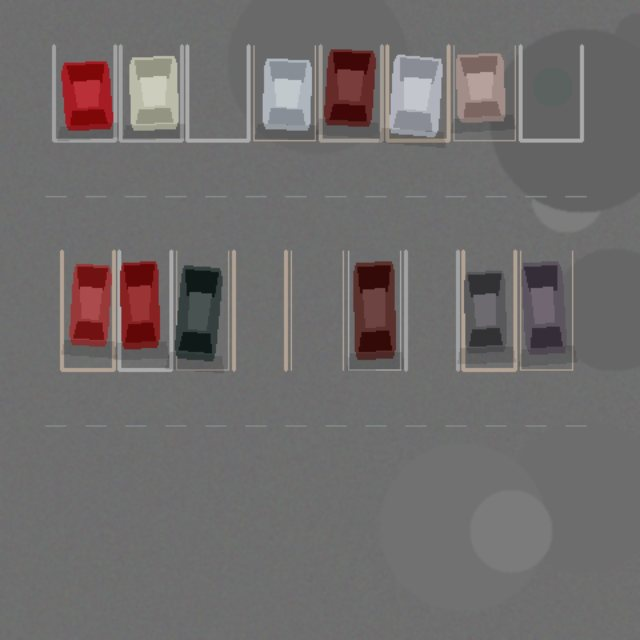space-empty: (233, 251, 285, 369), (291, 251, 343, 369), (405, 251, 457, 369), (187, 45, 248, 140), (520, 45, 581, 140)
space-occupied: (61, 251, 113, 369), (119, 251, 171, 369), (176, 251, 228, 369), (348, 251, 400, 369), (463, 251, 515, 369), (520, 251, 572, 369), (53, 45, 115, 140), (253, 45, 315, 140), (453, 45, 515, 140), (120, 45, 181, 140), (320, 45, 381, 140), (387, 45, 448, 140)
